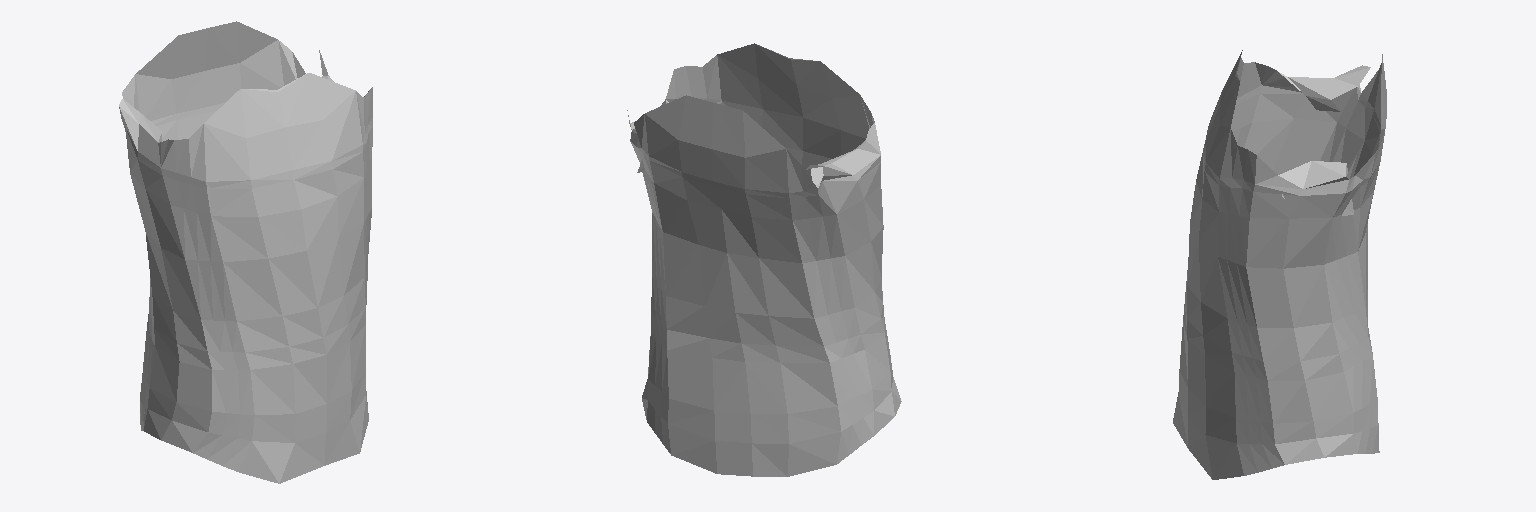
The picture shows the model from 3 angles: view 1: azimuth 30°, elevation 25°; view 2: azimuth 150°, elevation 25°; view 3: azimuth 270°, elevation 25°; orthographic projection.
Parts seen in each view (by area): view 1: male01_mesh1_002_mesh1_geometry_male_02_1noCullingID_male_02_1no; view 2: male01_mesh1_002_mesh1_geometry_male_02_1noCullingID_male_02_1no; view 3: male01_mesh1_002_mesh1_geometry_male_02_1noCullingID_male_02_1no.
Part boxes in pixels (left/top/right/bottom): male01_mesh1_002_mesh1_geometry_male_02_1noCullingID_male_02_1no: left=119, top=21, right=372, bottom=483; male01_mesh1_002_mesh1_geometry_male_02_1noCullingID_male_02_1no: left=627, top=43, right=901, bottom=476; male01_mesh1_002_mesh1_geometry_male_02_1noCullingID_male_02_1no: left=1173, top=50, right=1386, bottom=479.
Size of the model in its own units: 19.89 by 32.52 by 16.65.